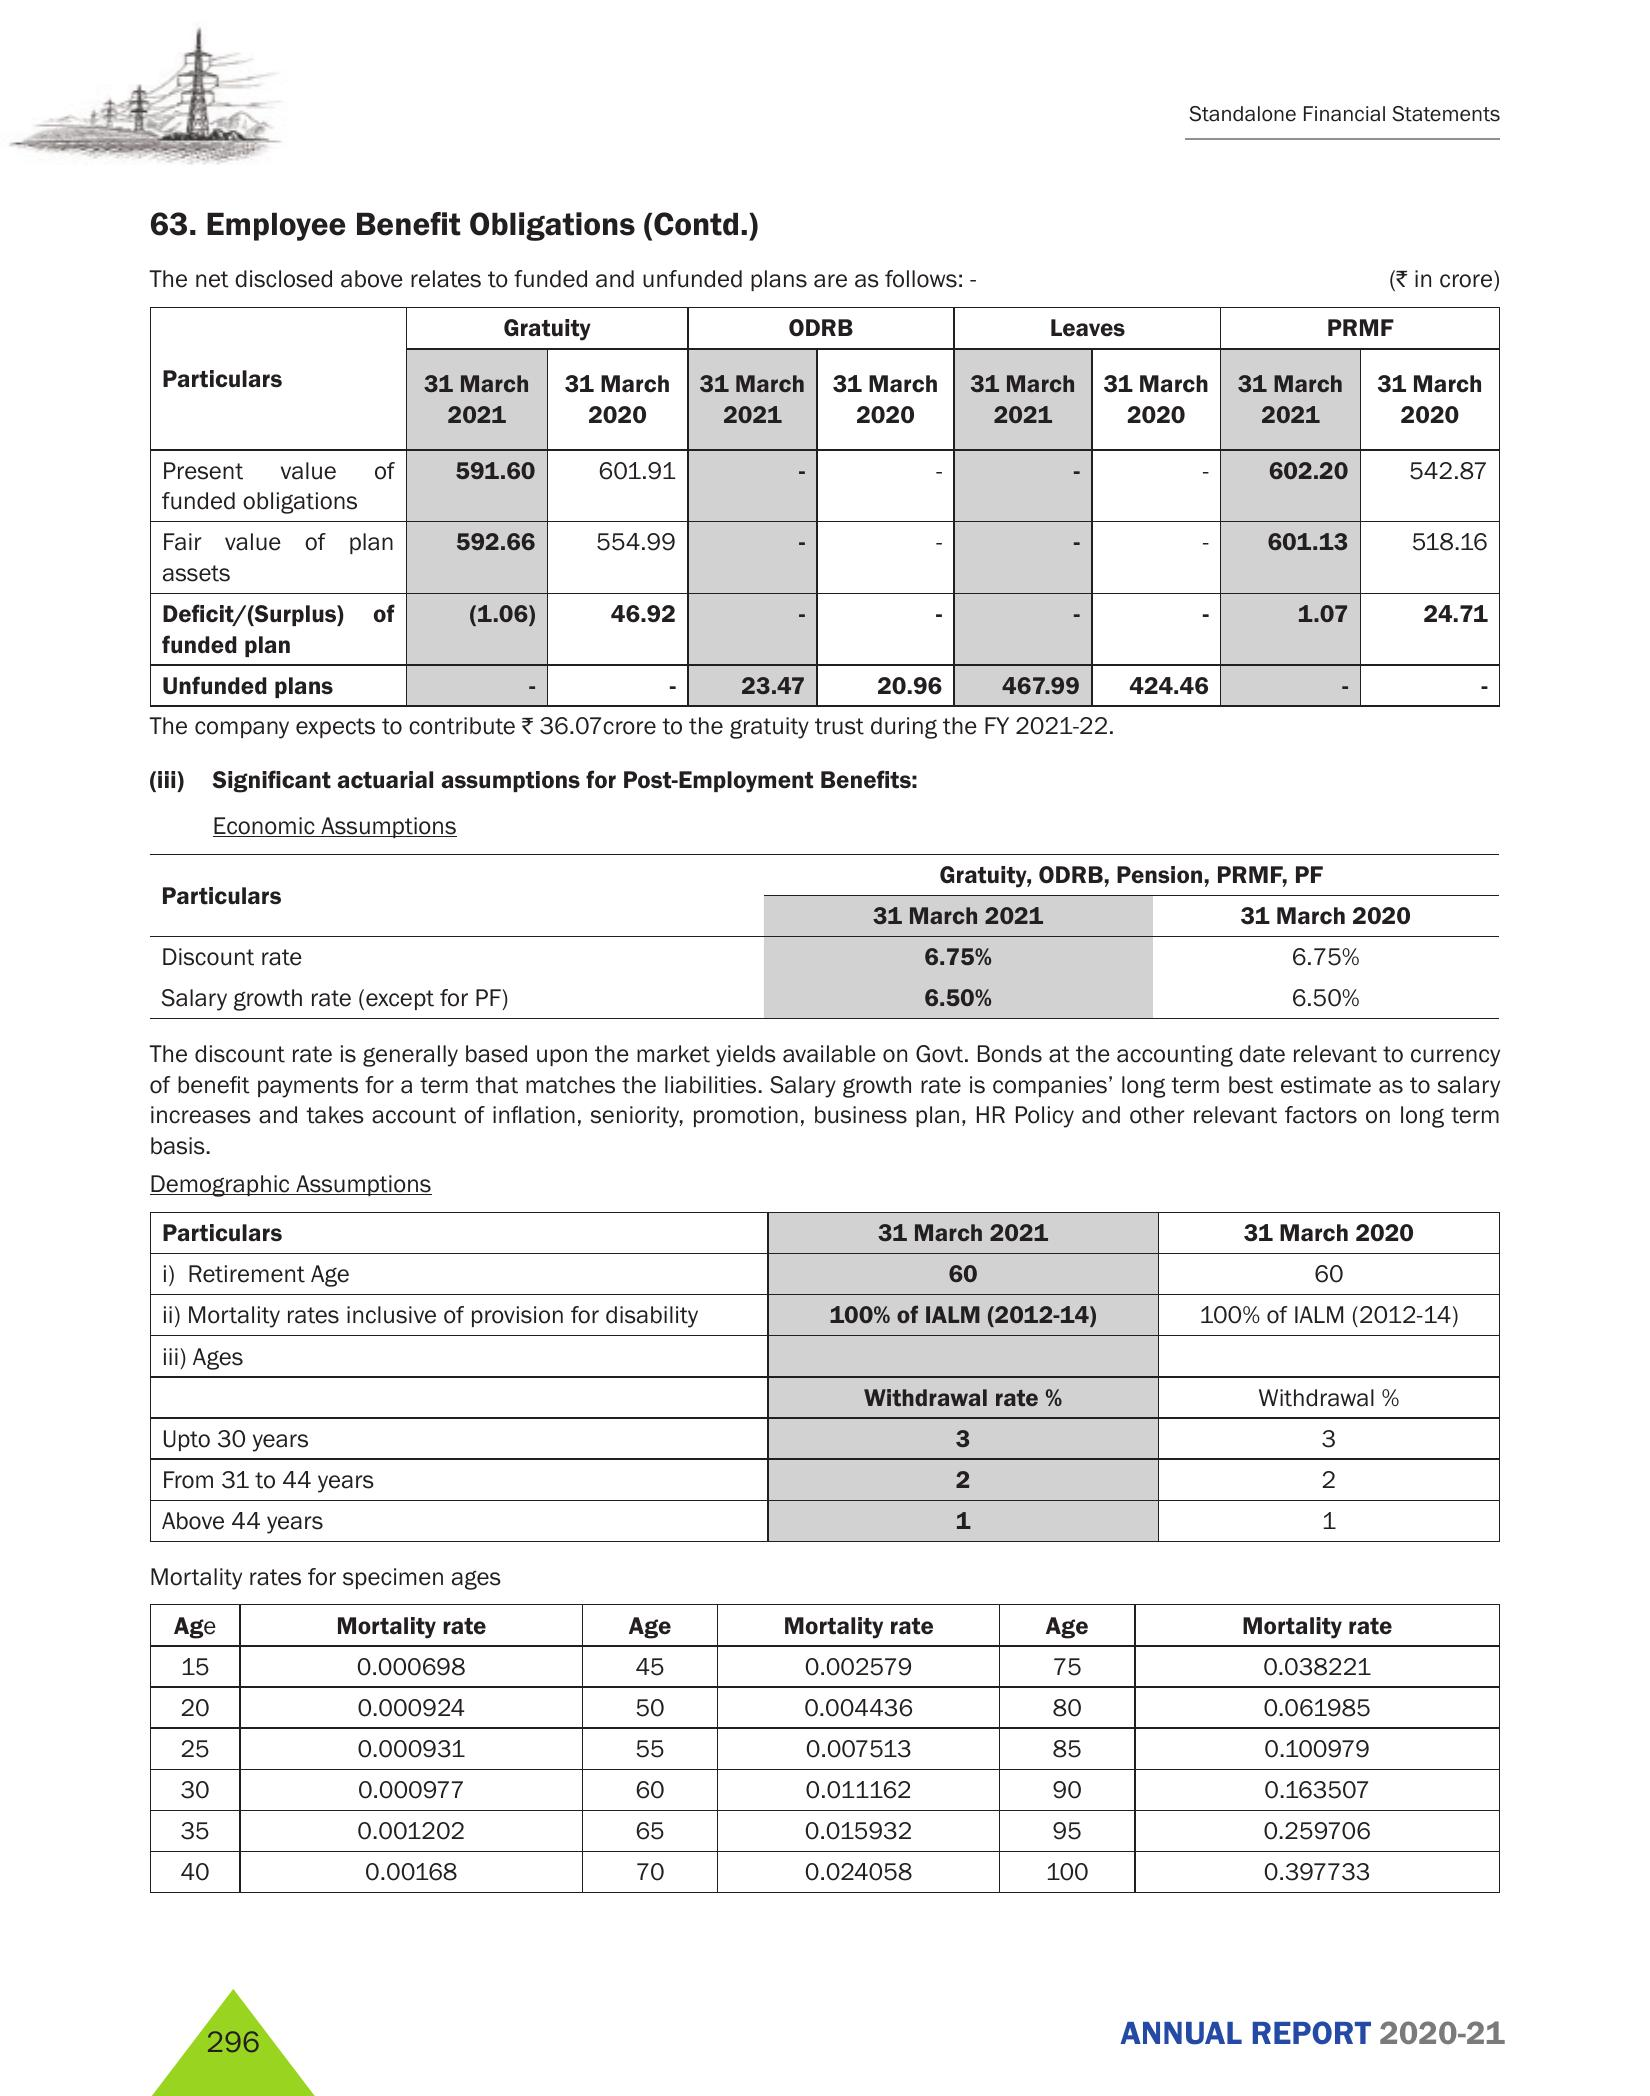Footer: (0, 1956, 1650, 2096)
Header: (0, 0, 1650, 172)
Table: (139, 298, 1499, 708), (139, 1205, 1504, 1545), (143, 1589, 1507, 1912), (129, 854, 1507, 1012)
